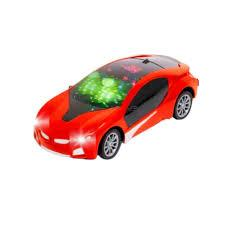car: (35, 52, 196, 160)
